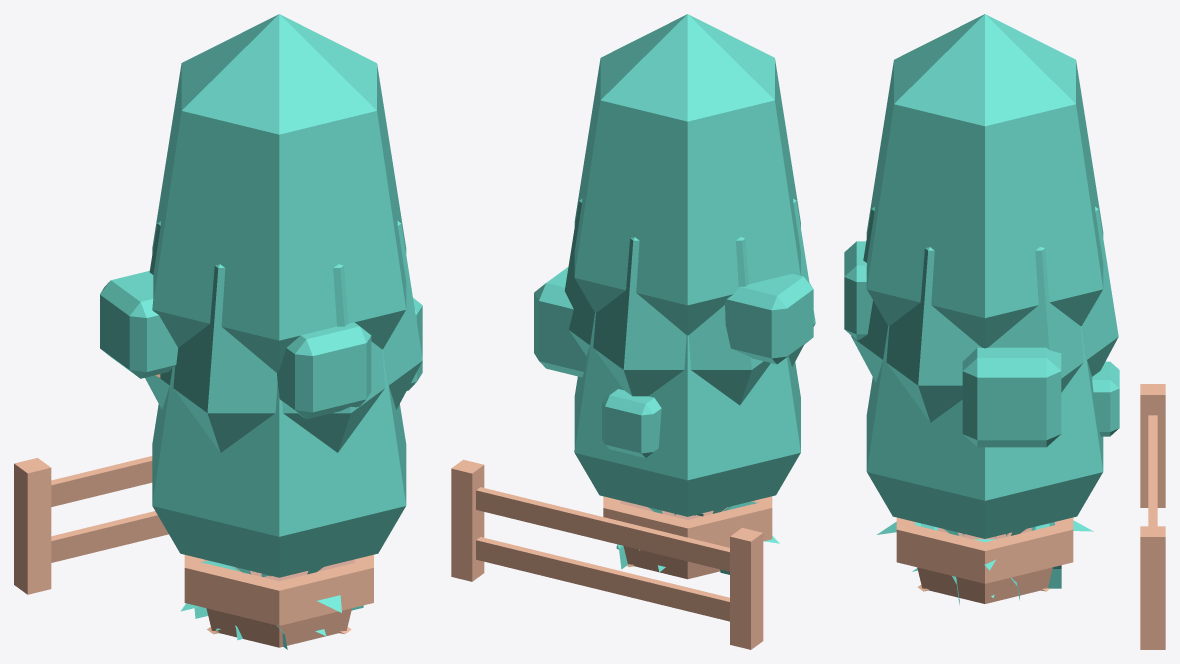
The model's file is natuur.glb.
The picture shows the model from 3 angles, left to right: view 1: azimuth 30°, elevation 25°; view 2: azimuth 150°, elevation 25°; view 3: azimuth 270°, elevation 25°; orthographic projection. The views are drawn at different scales.
Visible parts, largest first — view 1: tree_default, tree_fat, tree_oak, tree_detailed, pot_large, fence_simple; view 2: tree_default, tree_fat, fence_simple, tree_oak, tree_detailed, pot_large; view 3: tree_default, tree_fat, tree_oak, tree_detailed, pot_large, fence_simple.
Part boxes in pixels (x1,y1,x2,y2): tree_default: (152,14,406,576); tree_fat: (152,349,406,577); tree_oak: (145,221,422,634); tree_detailed: (100,271,422,419); pot_large: (184,554,373,647); fence_simple: (14,456,168,594); tree_default: (574,14,800,515); tree_fat: (574,313,800,516); fence_simple: (451,459,763,649); tree_oak: (564,198,815,566); tree_detailed: (534,267,813,457); pot_large: (603,496,772,579); tree_default: (866,14,1103,534); tree_fat: (866,326,1103,538); tree_oak: (851,206,1118,591); tree_detailed: (844,241,1119,447); pot_large: (896,517,1073,603); fence_simple: (1140,384,1165,649).
Bounding box in the file's own units: 1 × 1.71 × 0.8895.
